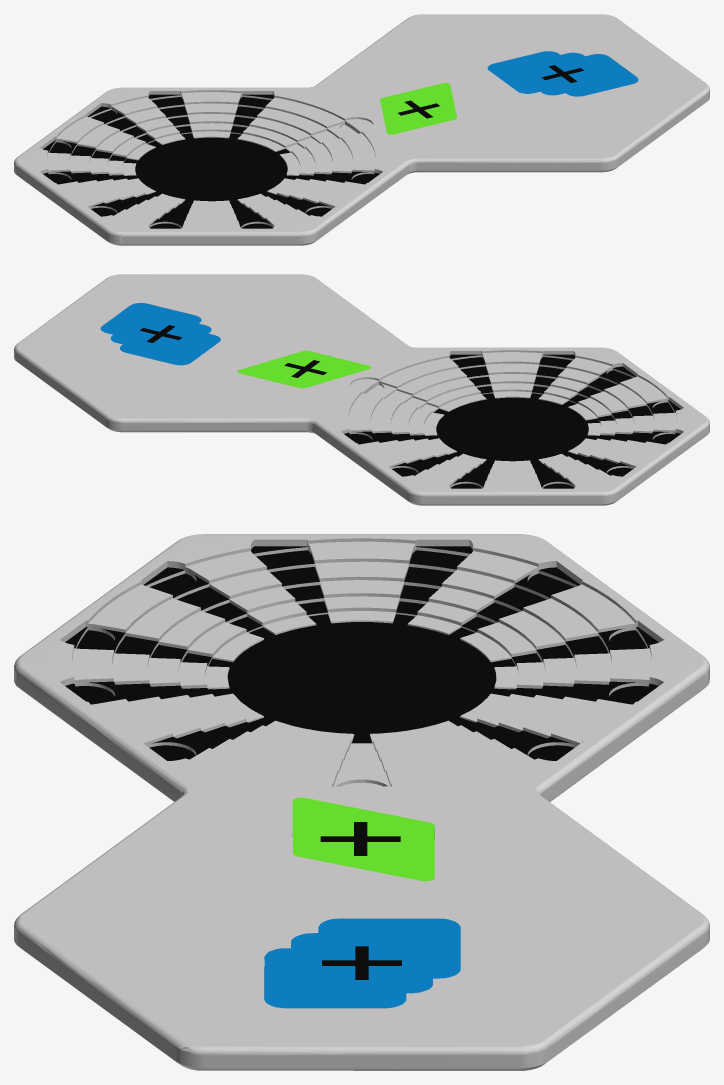
Rendered from mine-2.glb.
3 renders of one model, top to bottom at view 1: azimuth 30°, elevation 25°; view 2: azimuth 150°, elevation 25°; view 3: azimuth 270°, elevation 25°, orthographic. The views are drawn at different scales.
Parts seen in each view (by area): view 1: mine-2; view 2: mine-2; view 3: mine-2.
Part boxes in pixels (box(x1,y1,x2,y2)): mine-2: box(14, 14, 709, 245); mine-2: box(14, 274, 709, 505); mine-2: box(14, 534, 709, 1070).
Bounding box in the file's own units: 138 × 3 × 78.26.
